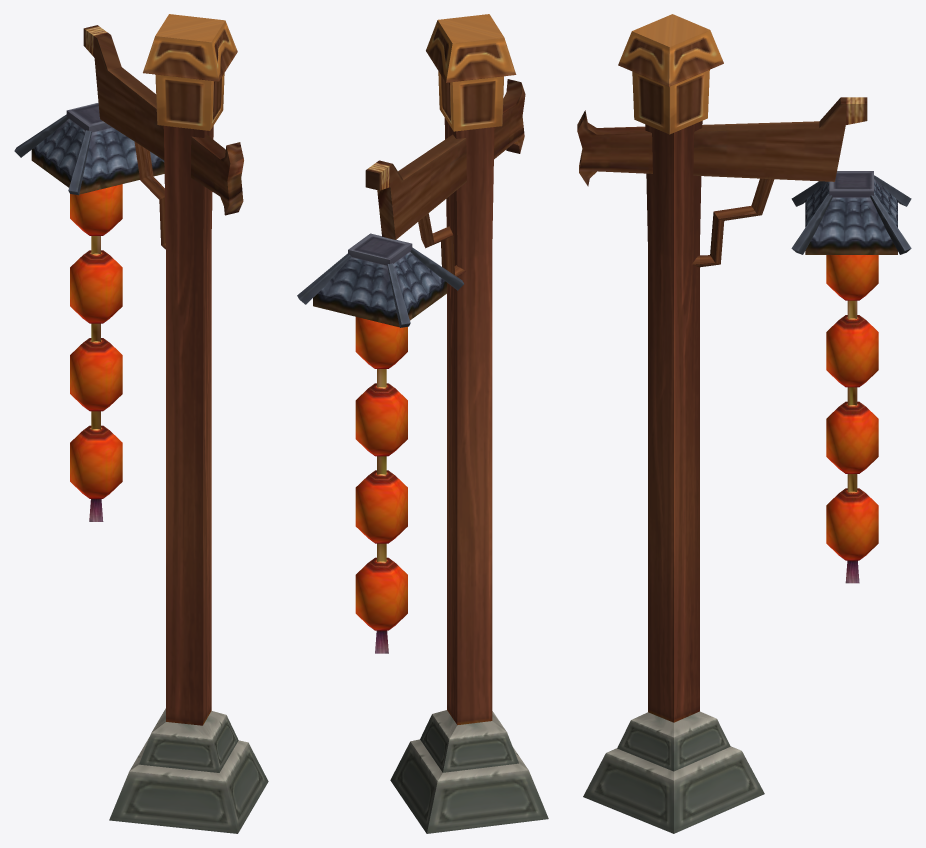
The model's file is szc_object_13aludeng2a.FBX.
The picture shows the model from 3 angles, left to right: view 1: azimuth 30°, elevation 25°; view 2: azimuth 150°, elevation 25°; view 3: azimuth 270°, elevation 25°; orthographic projection.
Parts seen in each view (by area): view 1: szc_object_13ludeng2; view 2: szc_object_13ludeng2; view 3: szc_object_13ludeng2.
Boxes of the visible parts, x1,y1,x2,y2 form: szc_object_13ludeng2: (14,14,268,833); szc_object_13ludeng2: (297,14,548,833); szc_object_13ludeng2: (577,14,911,833).
Size of the model in its own units: 15.35 by 71.16 by 28.18.
